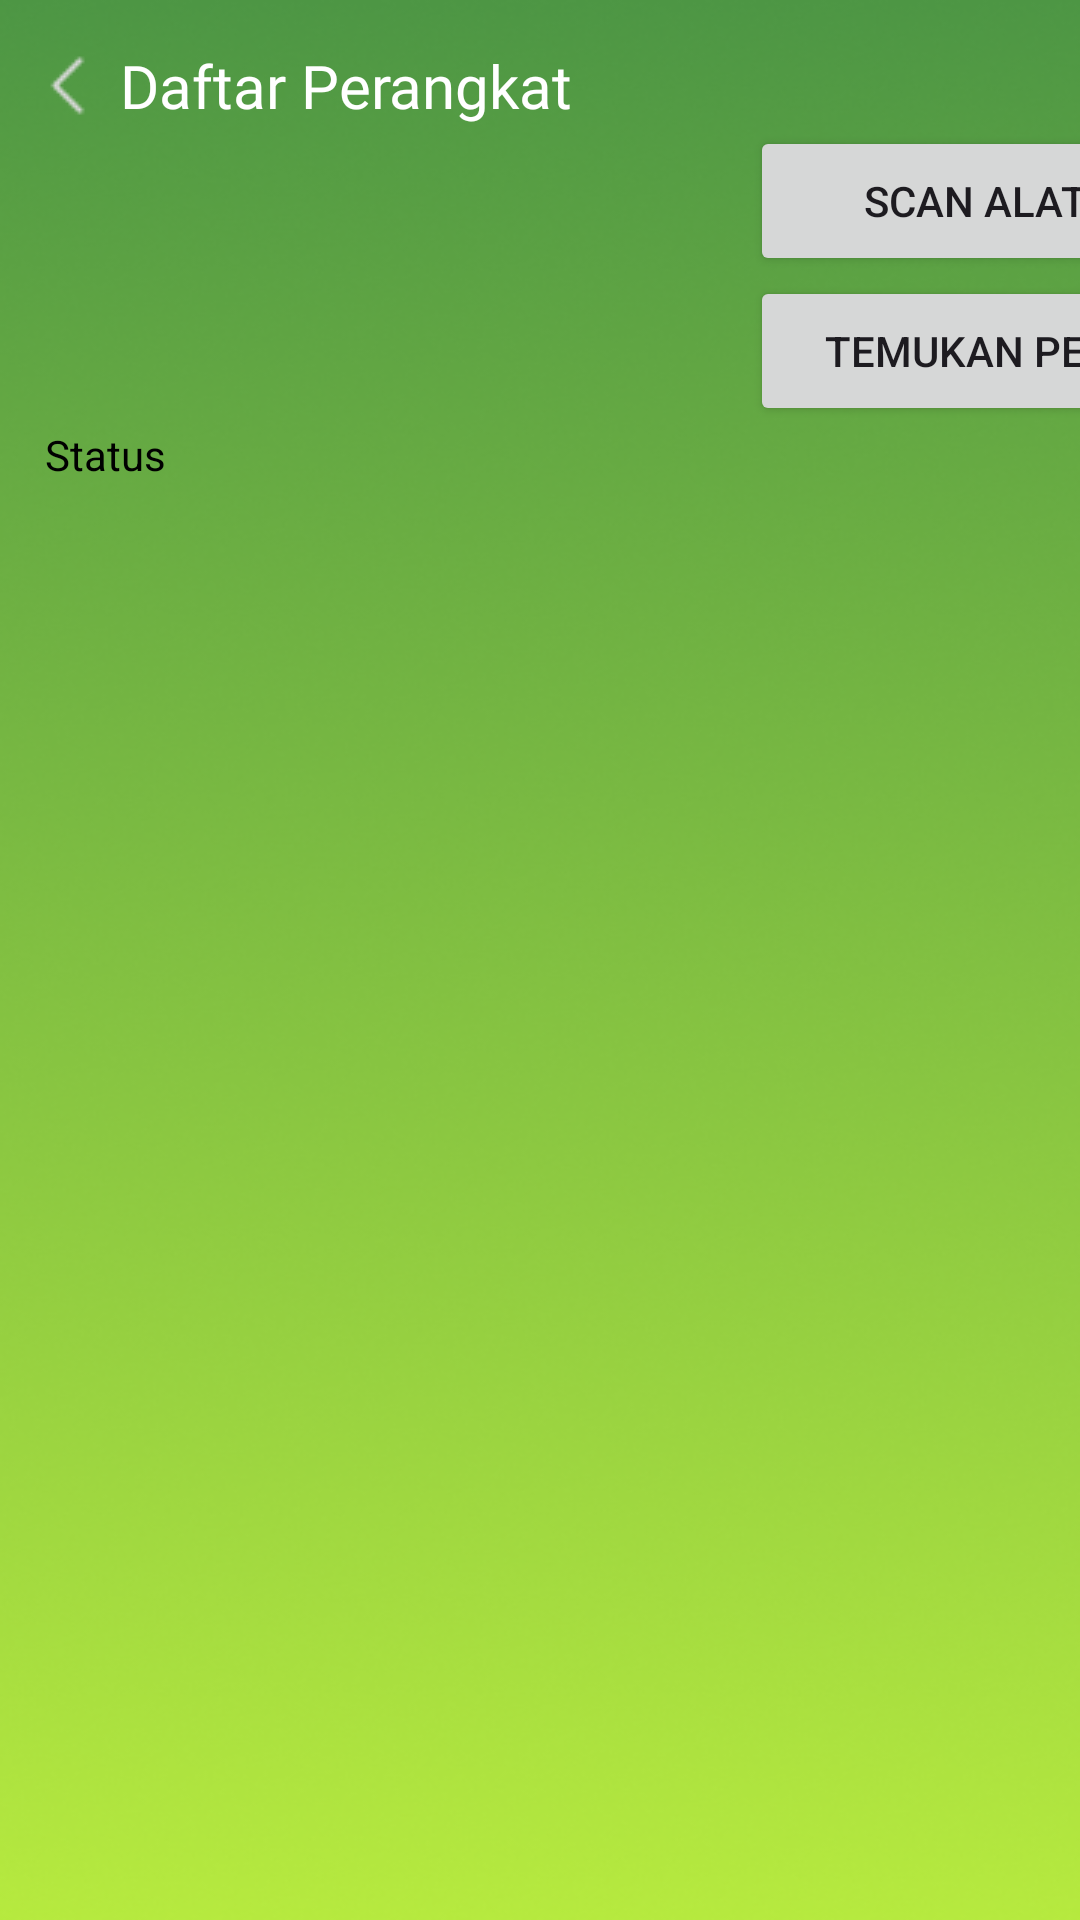

Icon click points for this 1080px x 1920px phone screenshot, format (x,y):
back: (67,85)
